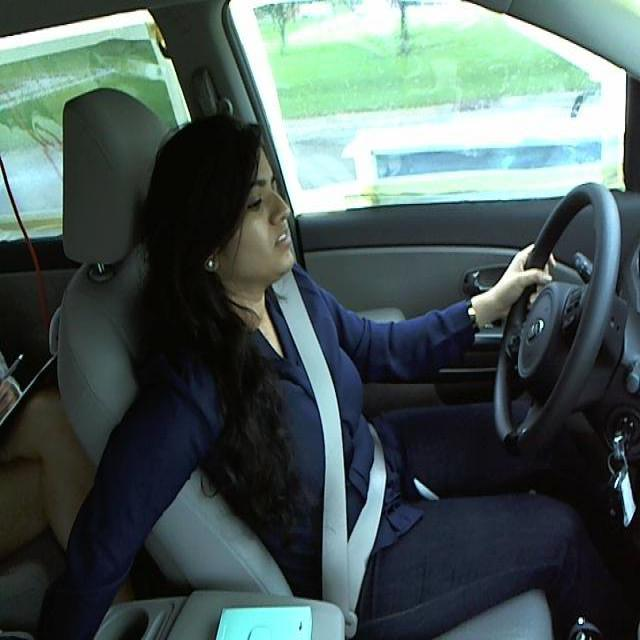seatbelt: (276, 288, 397, 599)
